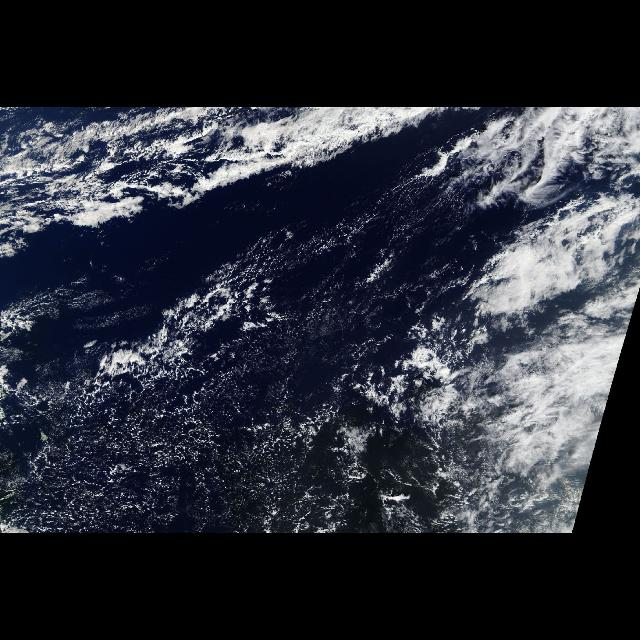Fish: (1, 108, 402, 228)
Gravel: (2, 281, 450, 534)
